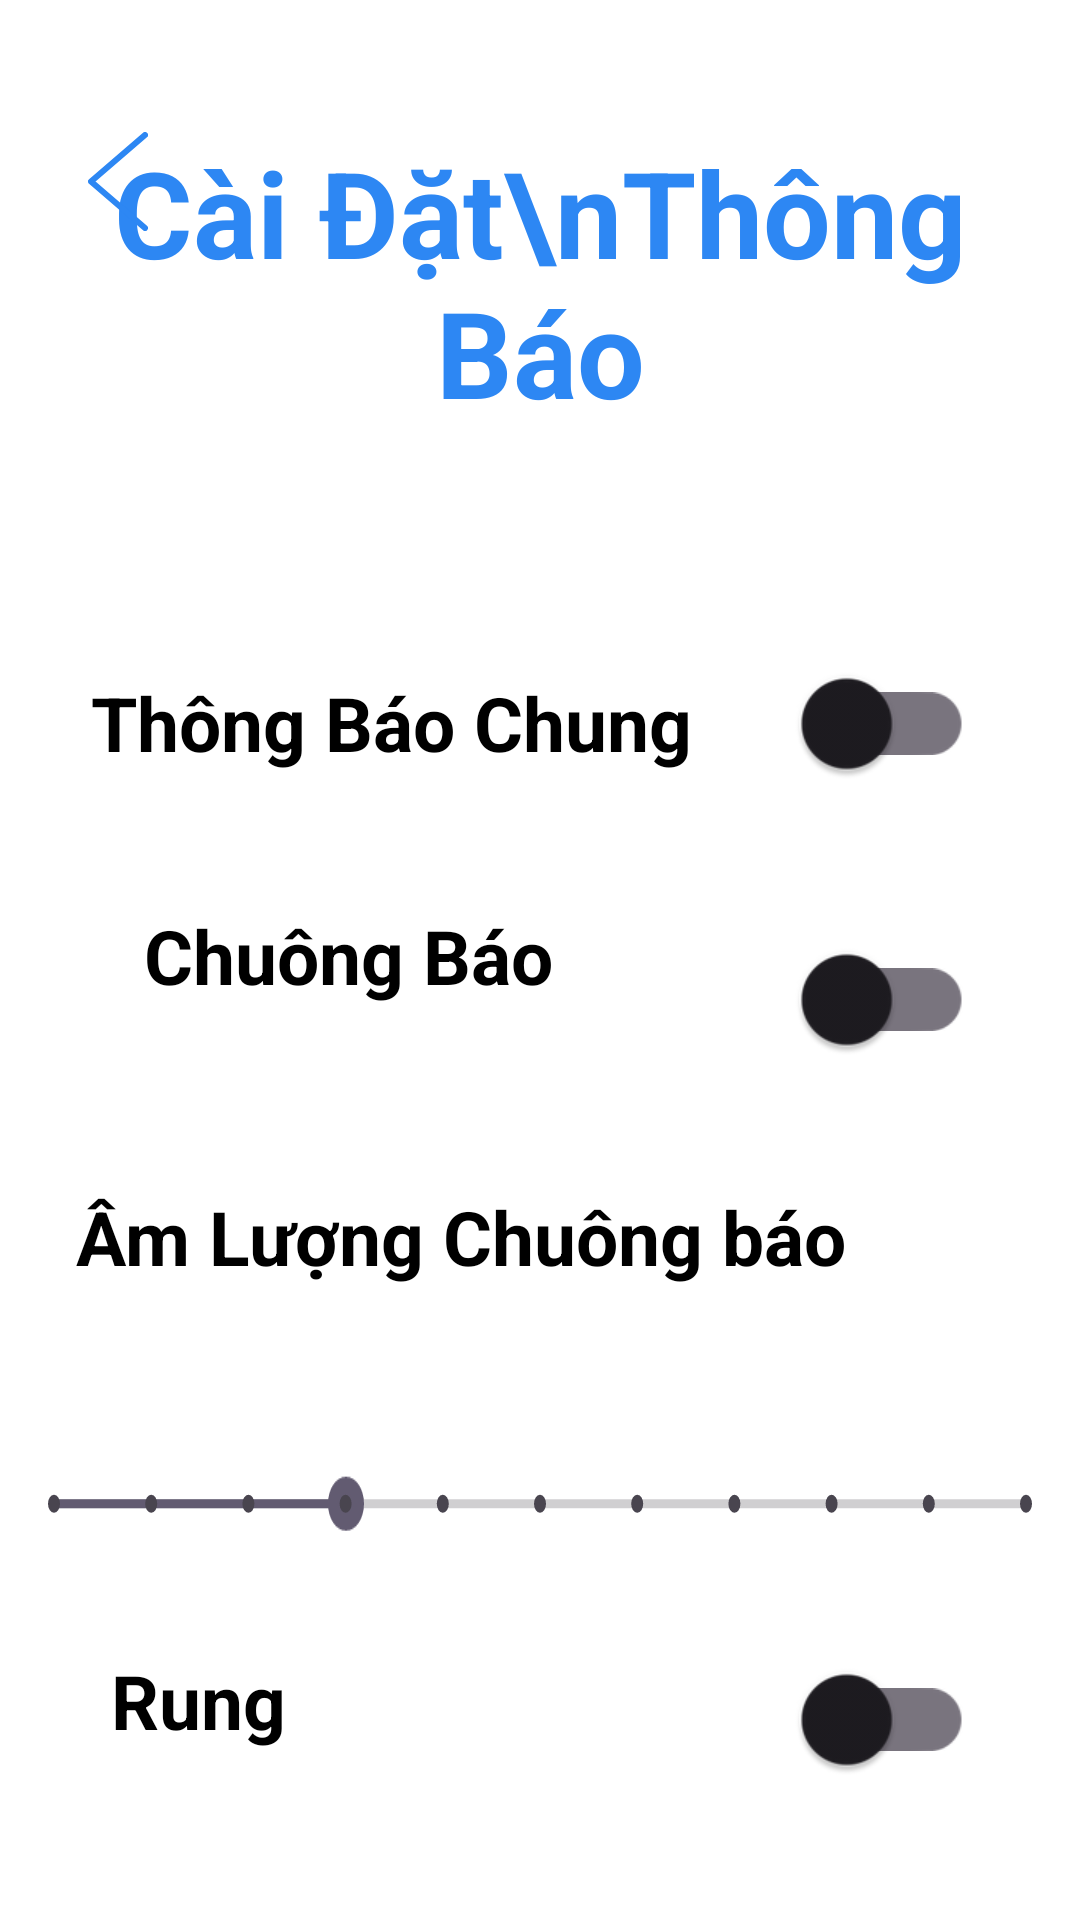

Named icons in this screenshot (1080×1920) and their bounding boxes, [x1,y1,x2,y2]:
Quay lại: [88,132,148,231]
